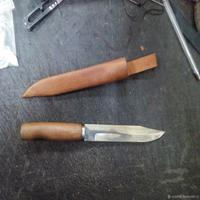knife: (10, 115, 183, 161)
